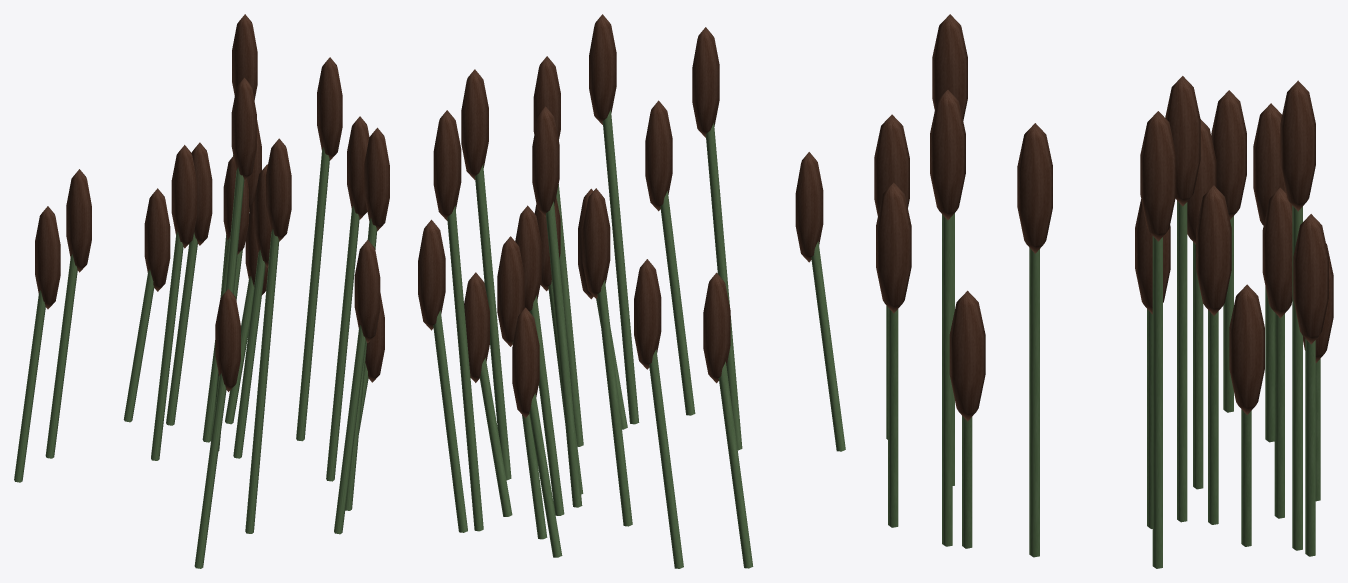
Rendered from reed.glb.
The picture shows the model from 3 angles, left to right: view 1: azimuth 30°, elevation 25°; view 2: azimuth 150°, elevation 25°; view 3: azimuth 270°, elevation 25°; orthographic projection. The views are drawn at different scales.
Visible parts, largest first — view 1: reed; view 2: reed; view 3: reed.
Boxes of the visible parts, left/top/right/bottom form: reed: left=14, top=14, right=389, bottom=568; reed: left=418, top=14, right=845, bottom=568; reed: left=874, top=14, right=1333, bottom=568.
Bounding box in the file's own units: 0.9022 × 1.12 × 0.9531.
Materials: 2 (2 with a texture image).
